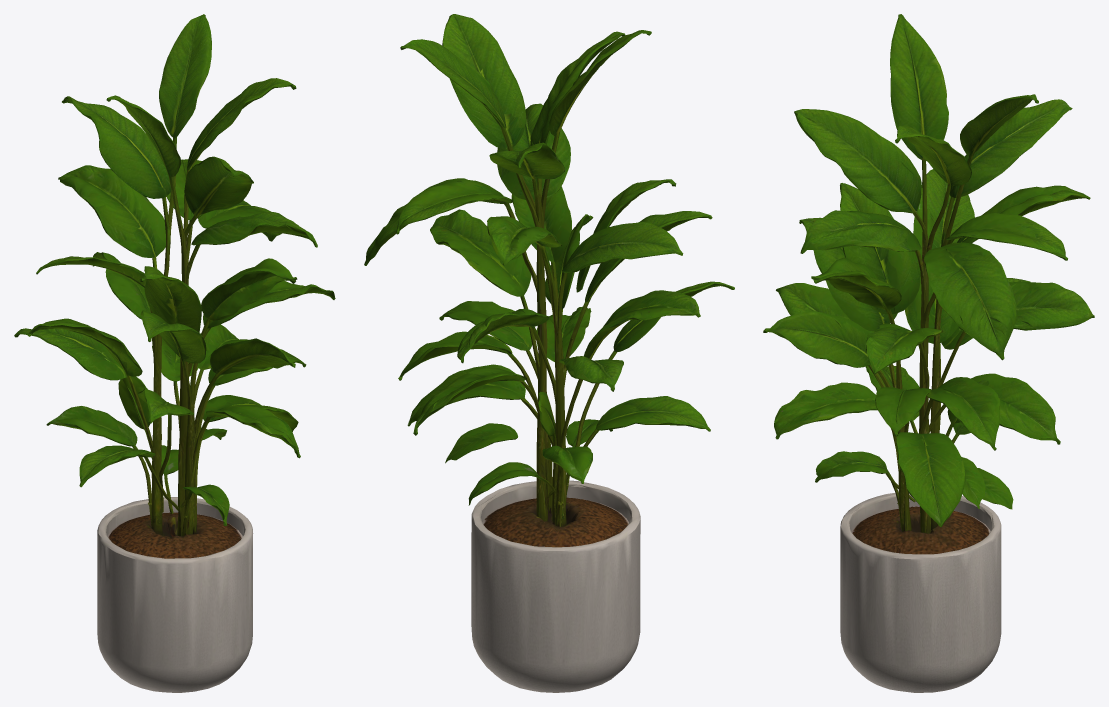
Rendered from indoor_plant_decor.glb.
3 views of the same model, side by side, from view 1: azimuth 30°, elevation 25°; view 2: azimuth 150°, elevation 25°; view 3: azimuth 270°, elevation 25° (orthographic). The views are drawn at different scales.
Visible parts, largest first — view 1: Object_2; view 2: Object_2; view 3: Object_2.
Boxes of the visible parts, x1,y1,x2,y2 form: Object_2: (14, 14, 335, 692); Object_2: (364, 14, 734, 692); Object_2: (763, 14, 1094, 692).
Bounding box in the file's own units: 1.19 × 2.43 × 1.19.
1 material, 1 textured.
